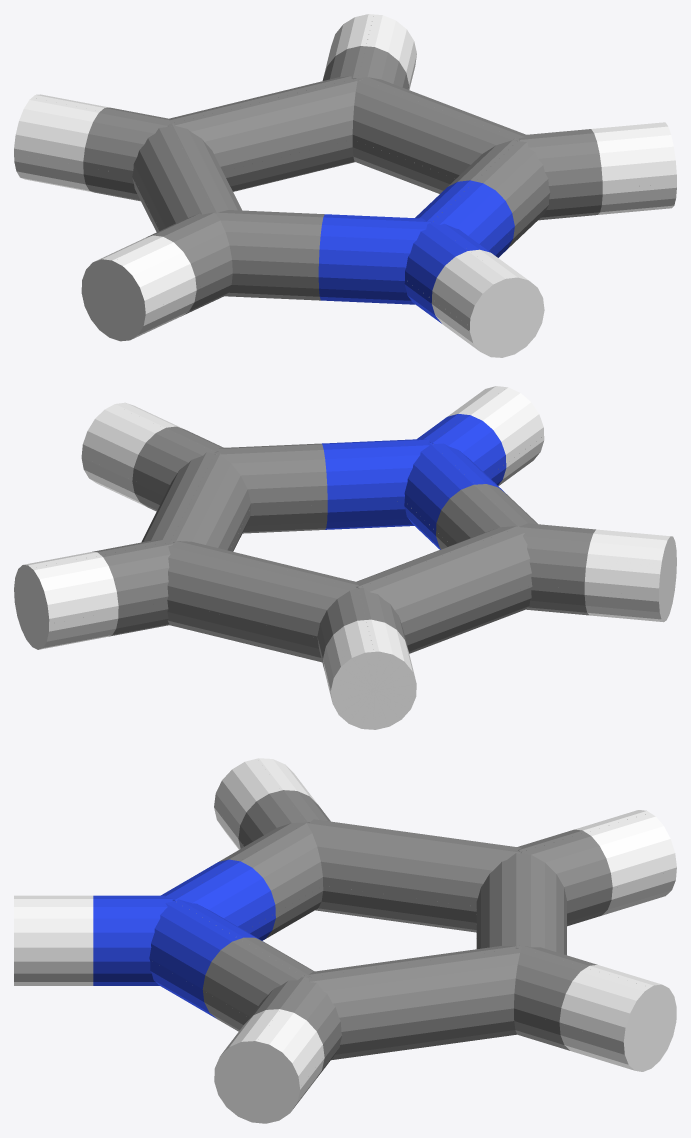
File: pyrrole.obj
3 renders of one model, top to bottom at view 1: azimuth 30°, elevation 25°; view 2: azimuth 150°, elevation 25°; view 3: azimuth 270°, elevation 25°, orthographic. The views are drawn at different scales.
Visible parts, largest first — view 1: Carbon_sticks_cylinder, Hydrogen_sticks_cylinder, Nitrogen_sticks_cylinder, Hydrogen_sticks_cup; view 2: Carbon_sticks_cylinder, Hydrogen_sticks_cylinder, Nitrogen_sticks_cylinder, Hydrogen_sticks_cup; view 3: Carbon_sticks_cylinder, Hydrogen_sticks_cylinder, Nitrogen_sticks_cylinder, Hydrogen_sticks_cup.
Boxes of the visible parts, left/top/right/bottom form: Carbon_sticks_cylinder: left=83, top=46, right=602, bottom=316; Hydrogen_sticks_cylinder: left=14, top=14, right=676, bottom=351; Nitrogen_sticks_cylinder: left=318, top=180, right=514, bottom=323; Hydrogen_sticks_cup: left=81, top=259, right=544, bottom=357; Carbon_sticks_cylinder: left=92, top=426, right=595, bottom=670; Hydrogen_sticks_cylinder: left=23, top=386, right=669, bottom=701; Nitrogen_sticks_cylinder: left=321, top=414, right=506, bottom=549; Hydrogen_sticks_cup: left=14, top=536, right=676, bottom=729; Carbon_sticks_cylinder: left=202, top=790, right=612, bottom=1078; Hydrogen_sticks_cylinder: left=14, top=758, right=676, bottom=1111; Nitrogen_sticks_cylinder: left=93, top=859, right=275, bottom=1018; Hydrogen_sticks_cup: left=214, top=984, right=676, bottom=1123.
Bounding box in the file's own units: 3.07 × 0.4 × 2.92.
